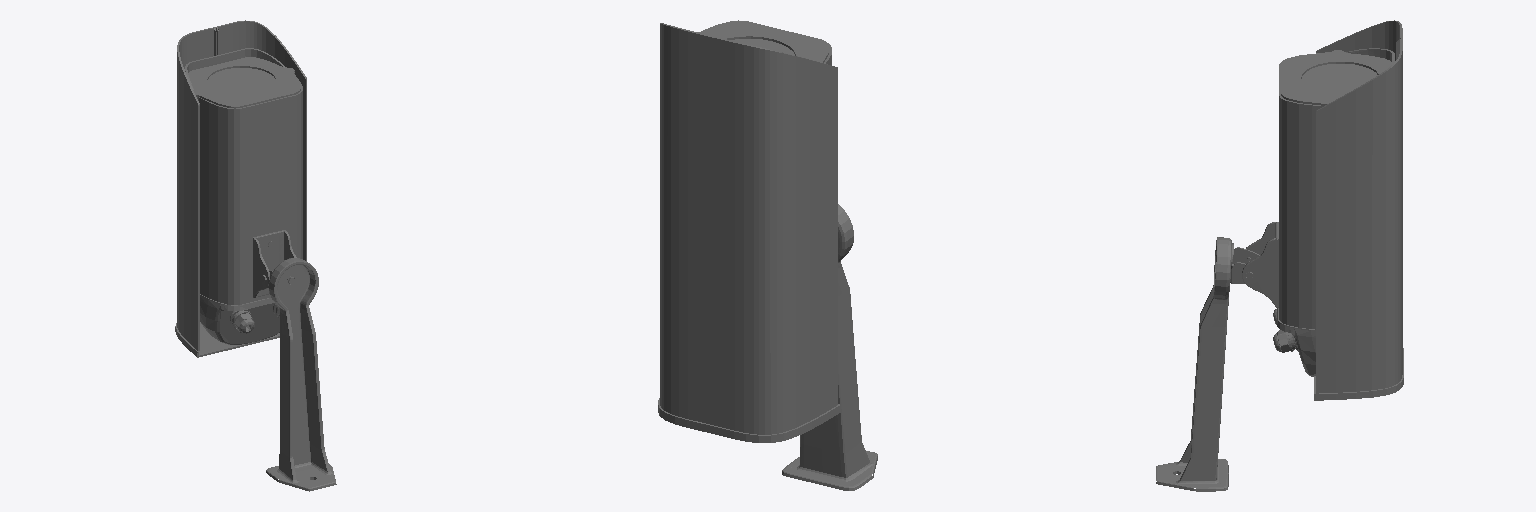
The robot description file, URDF, robot "generic_ip_cam":
<?xml version="1.0"?>
<robot name="generic_ip_cam">

  <link name="generic_ip_cam_link">
  
    <visual>
      <origin xyz="0 0 0" rpy="0 0 0"/>
      <geometry>
        <mesh filename="package://Generic_IP_camera/meshes/Generic_IP_Cam.stl" scale="0.001 0.001 0.001"/>
      </geometry>
      <material name="grey">
        <color rgba="0.5 0.5 0.5 1.0"/>
      </material>
    </visual>

    <collision>
      <origin xyz="0 0 0" rpy="0 0 0"/>
      <geometry>
        <mesh filename="package://Generic_IP_camera/meshes/Generic_IP_Cam.stl" scale="0.001 0.001 0.001"/>
      </geometry>
    </collision>

    <inertial>
      <mass value="0.15"/>
      <origin xyz="0 0 0" rpy="0 0 0"/>
      <inertia
        ixx="0.0001" ixy="0.0" ixz="0.0"
        iyy="0.0001" iyz="0.0"
        izz="0.0001"/>
    </inertial>
    
  </link>

</robot>

--- What the picture shows (computed from the rendered views, not written in the file) ---
The picture shows the robot from 3 angles, left to right: view 1: azimuth 30°, elevation 25°; view 2: azimuth 150°, elevation 25°; view 3: azimuth 270°, elevation 25°; orthographic projection.
Model generic_ip_cam with 1 links and 0 joints (none), rooted at generic_ip_cam_link, posed all joints at 0.
Links seen in each view (by area): view 1: generic_ip_cam_link; view 2: generic_ip_cam_link; view 3: generic_ip_cam_link.
Link boxes in pixels (<box>): generic_ip_cam_link: <box>175,20,336,491</box>; generic_ip_cam_link: <box>658,20,877,490</box>; generic_ip_cam_link: <box>1156,20,1403,491</box>.
Size in the robot's own frame: 0.0002 by 0.0003 by 0.0006 metres.
1 mesh visuals loaded from 1 distinct referenced files (1 binary STL).